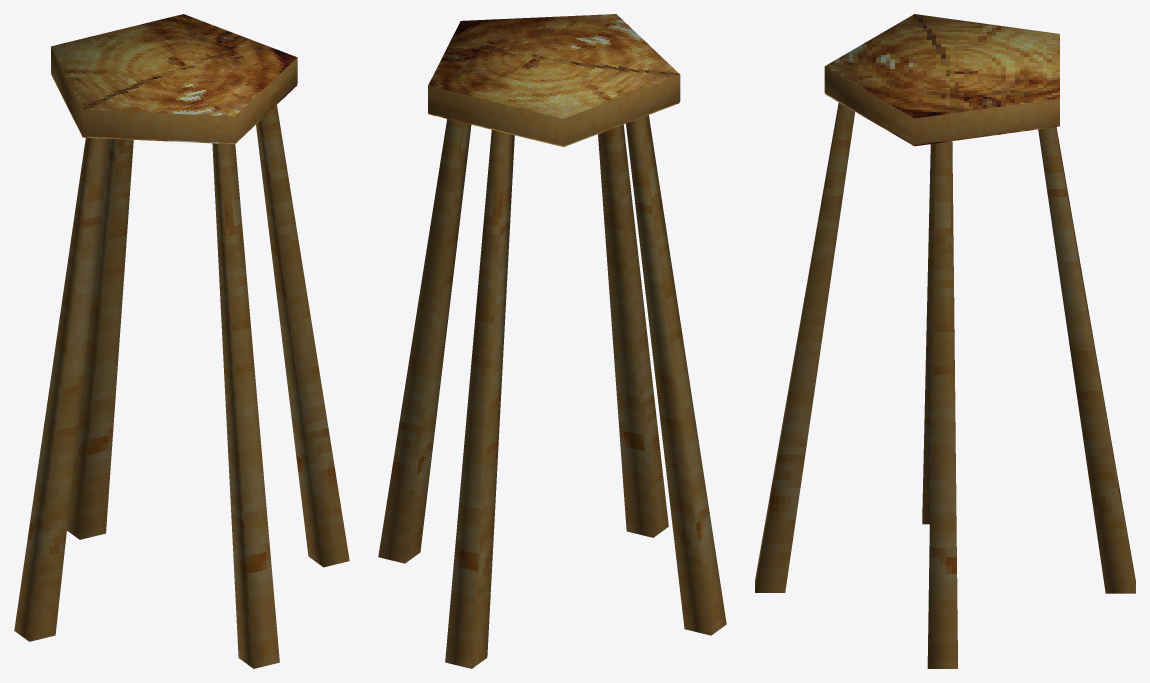
The model's file is BARSTOOL_ACTORDEF.fbx.
3 views of the same model, side by side, from view 1: azimuth 30°, elevation 25°; view 2: azimuth 150°, elevation 25°; view 3: azimuth 270°, elevation 25° (orthographic). The views are drawn at different scales.
Parts seen in each view (by area): view 1: U3DMesh; view 2: U3DMesh; view 3: U3DMesh.
Boxes of the visible parts, bbox=[...] form: U3DMesh: bbox=[14, 14, 349, 668]; U3DMesh: bbox=[378, 14, 726, 668]; U3DMesh: bbox=[755, 14, 1135, 668].
Bounding box in the file's own units: 2.85 × 4.41 × 2.92.
